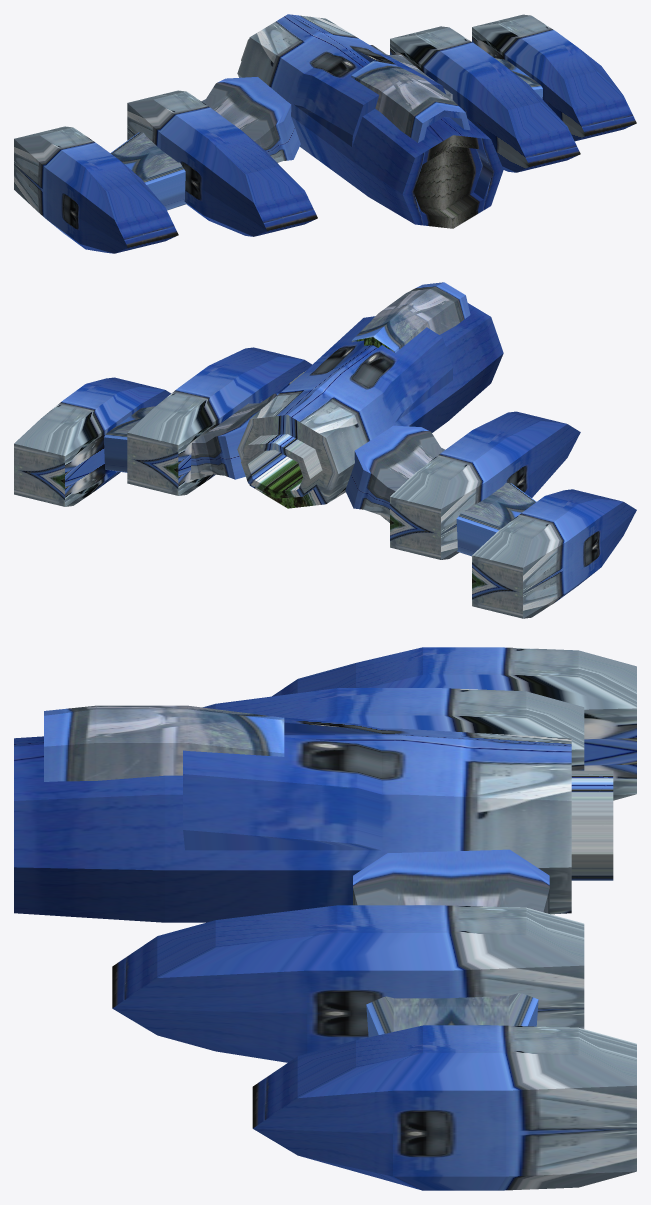
Rendered from m3-ship2.obj.
3 views of the same model, one above another, from view 1: azimuth 30°, elevation 25°; view 2: azimuth 150°, elevation 25°; view 3: azimuth 270°, elevation 25° (orthographic). The views are drawn at different scales.
Parts seen in each view (by area): view 1: M3_Ship_2_Cube.084; view 2: M3_Ship_2_Cube.084; view 3: M3_Ship_2_Cube.084.
Part boxes in pixels (bbox=[...]): M3_Ship_2_Cube.084: bbox=[14, 14, 636, 253]; M3_Ship_2_Cube.084: bbox=[14, 282, 636, 618]; M3_Ship_2_Cube.084: bbox=[14, 647, 636, 1190].
Bounding box in the file's own units: 40.17 × 12.15 × 24.63.
